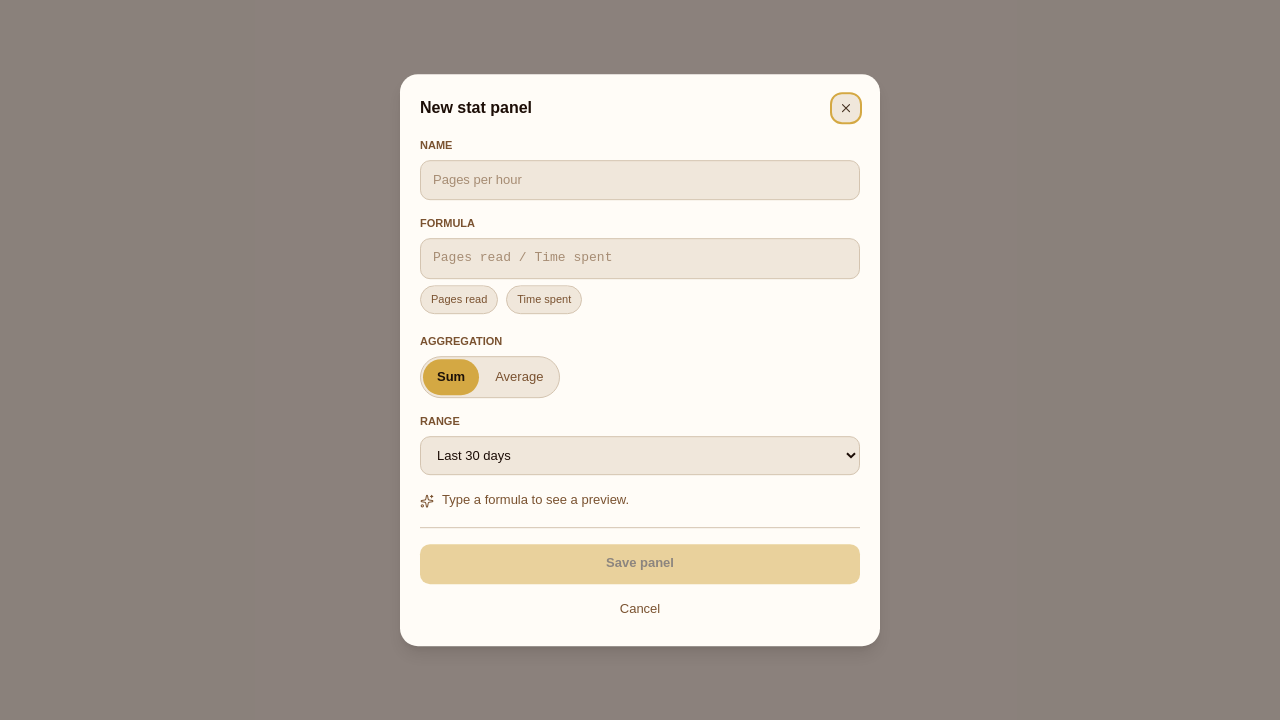
Scenario: StatPanelBuilderDialog › inserts a field into the formula when its chip is clicked
Click the button "Pages read" at (459, 300), box top-left (420, 285), bottom-right (498, 314)
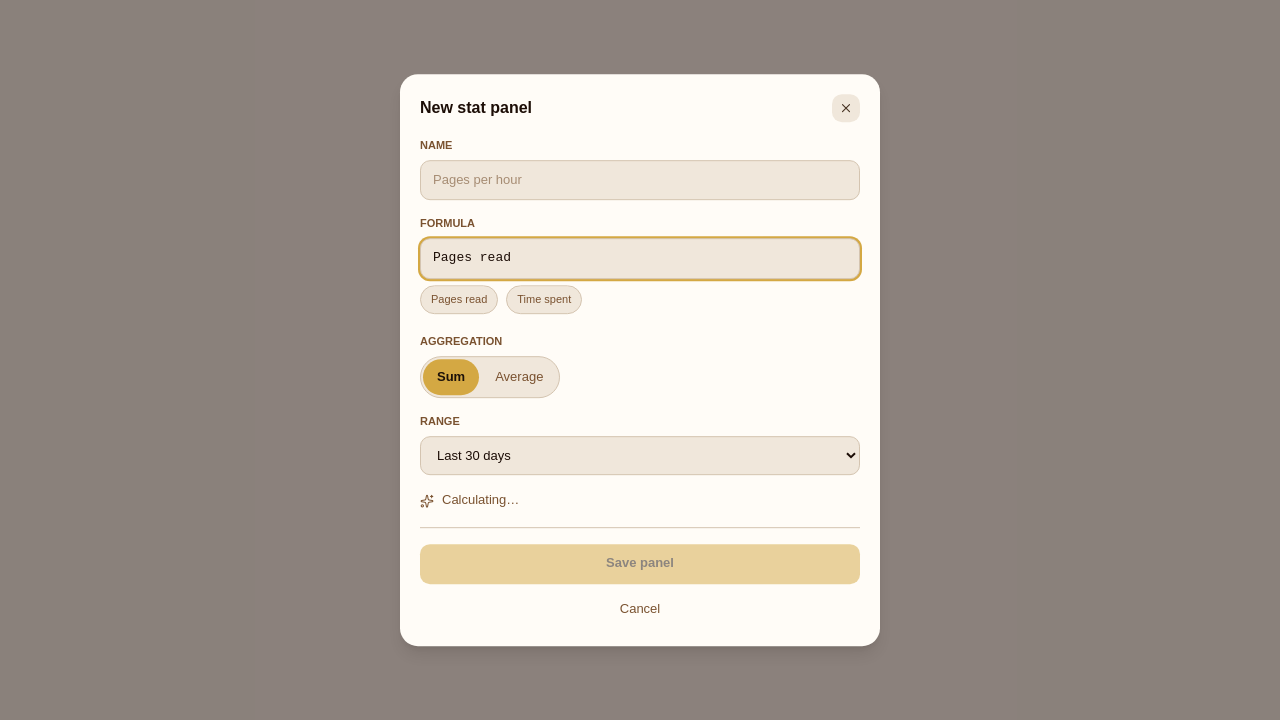
Expected: the field labelled "Formula" holds "Pages read", top-left (420, 238), bottom-right (860, 279)
